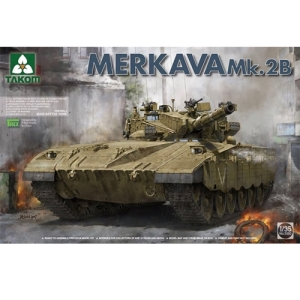Battle Tank: (30, 102, 278, 221)
